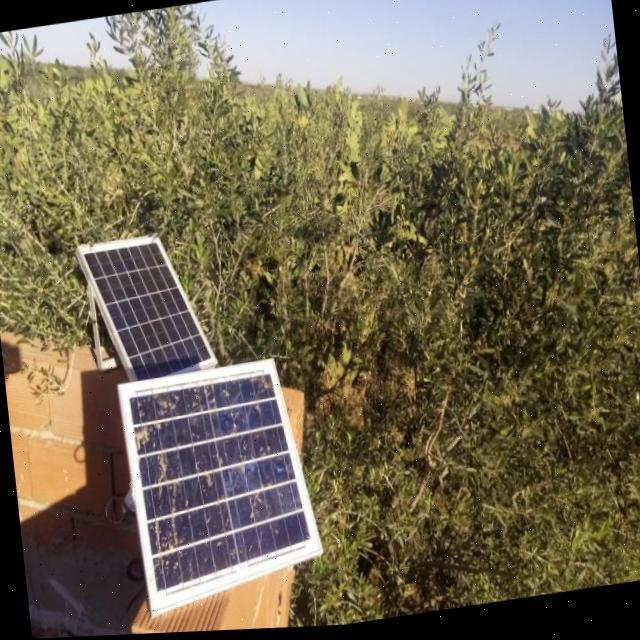Normal Solar Panel: (78, 230, 218, 388)
